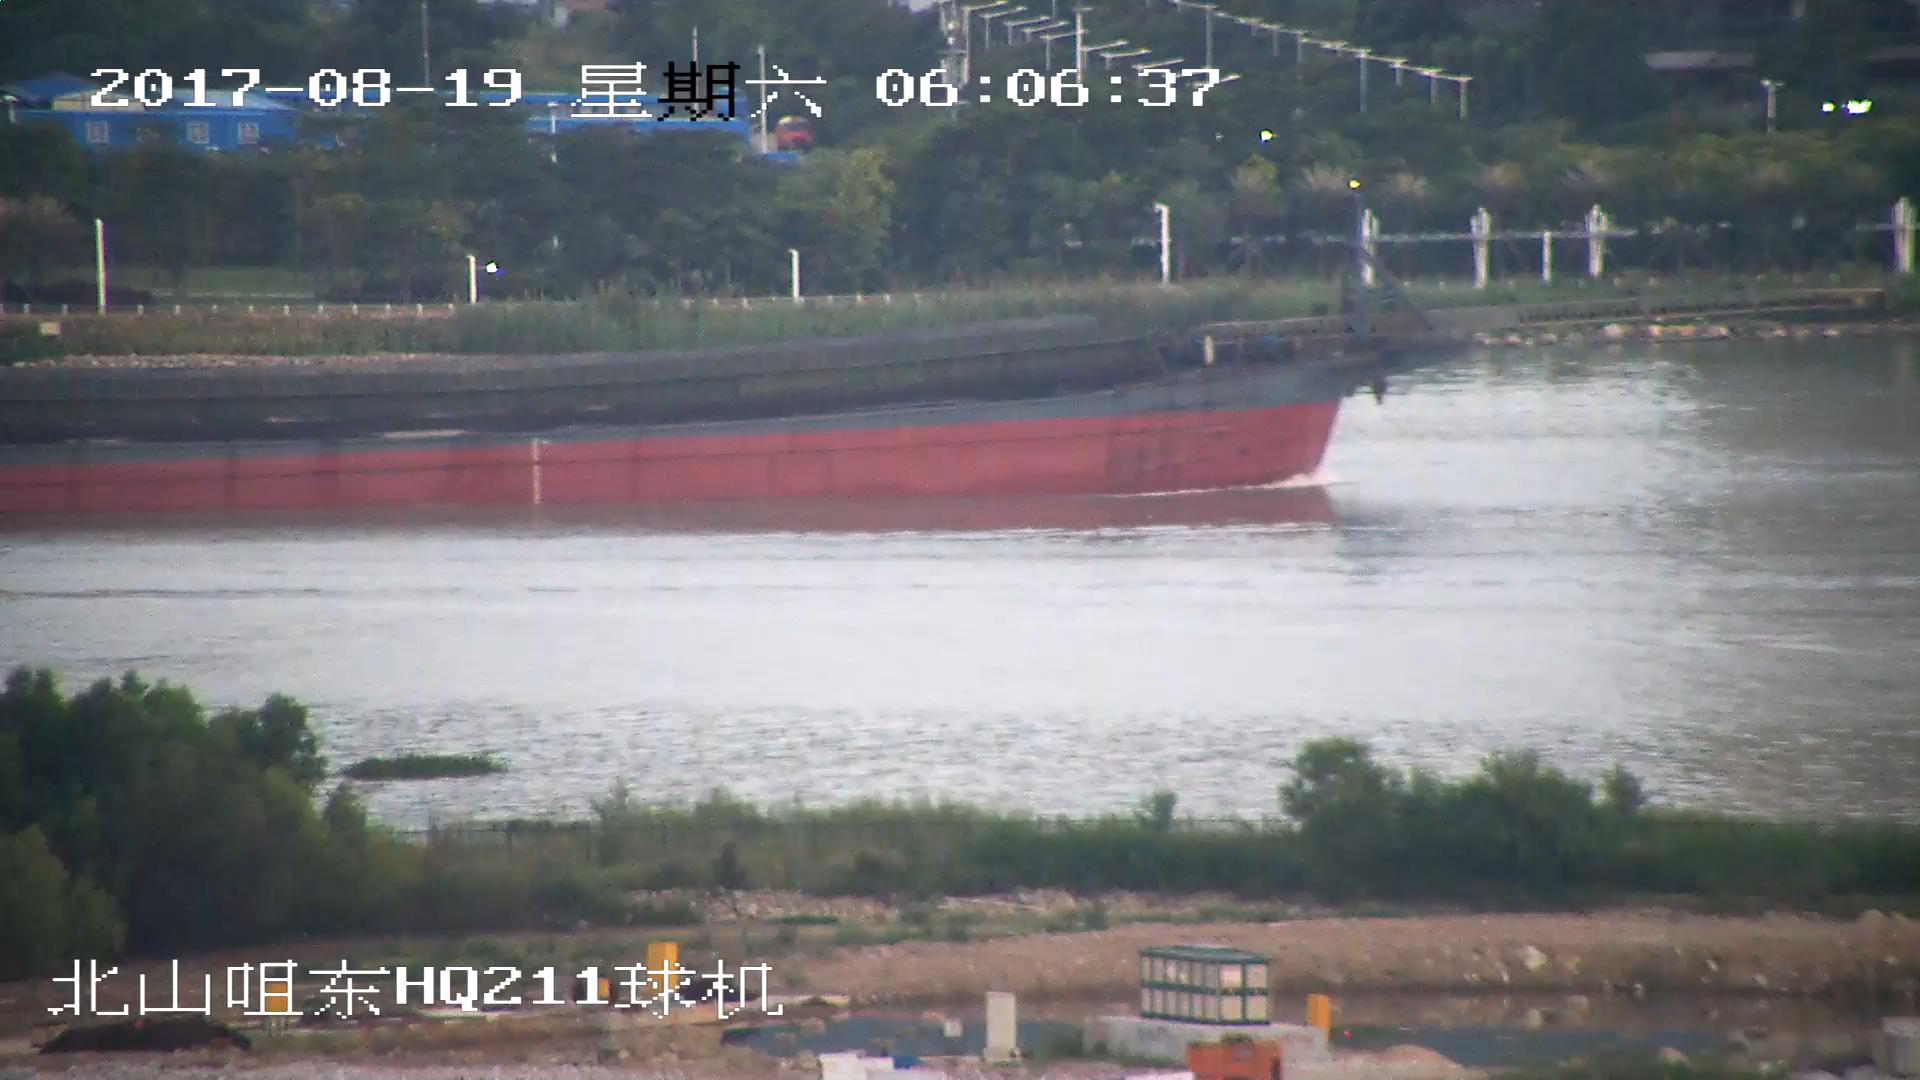bulk cargo carrier: (1, 177, 1889, 521)
